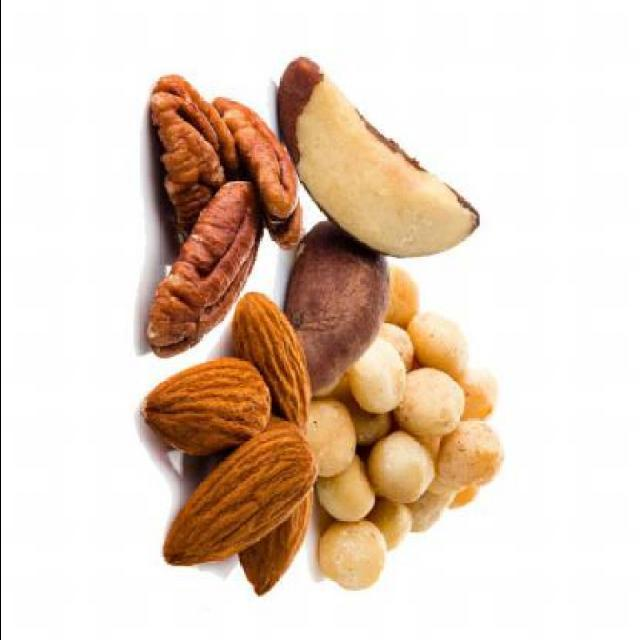Frutta secca: (261, 34, 497, 408), (290, 290, 522, 612), (118, 72, 287, 374), (141, 317, 307, 603)
